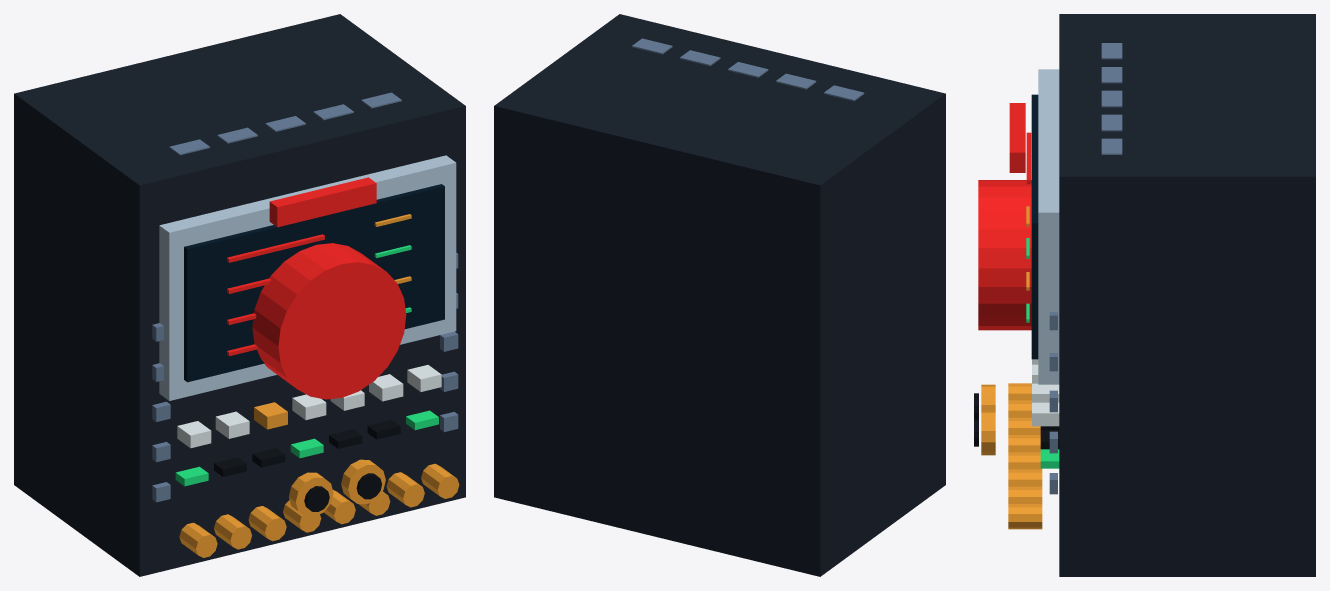
File: 78_L89_RadiationEmergencyIsolationStation.fbx
3 renders of one model, left to right at view 1: azimuth 30°, elevation 25°; view 2: azimuth 150°, elevation 25°; view 3: azimuth 270°, elevation 25°, orthographic. The views are drawn at different scales.
Visible parts, largest first — view 1: L87_RadiationEmergencyIsolationStation_Part_0000, L87_RadiationEmergencyIsolationStation_Part_0009, L87_RadiationEmergencyIsolationStation_Part_0002, L87_RadiationEmergencyIsolationStation_Part_0001, L87_RadiationEmergencyIsolationStation_Part_0004, L87_RadiationEmergencyIsolationStation_Part_0008, L87_RadiationEmergencyIsolationStation_Part_0006, L87_RadiationEmergencyIsolationStation_Part_0007, L87_RadiationEmergencyIsolationStation_Part_0005, L87_RadiationEmergencyIsolationStation_Part_0003, L87_RadiationEmergencyIsolationStation_Part_0012, L87_RadiationEmergencyIsolationStation_Part_0010; view 2: L87_RadiationEmergencyIsolationStation_Part_0000, L87_RadiationEmergencyIsolationStation_Part_0008; view 3: L87_RadiationEmergencyIsolationStation_Part_0000, L87_RadiationEmergencyIsolationStation_Part_0009, L87_RadiationEmergencyIsolationStation_Part_0001, L87_RadiationEmergencyIsolationStation_Part_0004, L87_RadiationEmergencyIsolationStation_Part_0008, L87_RadiationEmergencyIsolationStation_Part_0002, L87_RadiationEmergencyIsolationStation_Part_0006, L87_RadiationEmergencyIsolationStation_Part_0012, L87_RadiationEmergencyIsolationStation_Part_0005.
Part boxes in pixels (<box>): L87_RadiationEmergencyIsolationStation_Part_0000: <box>14,14,465,576</box>; L87_RadiationEmergencyIsolationStation_Part_0009: <box>252,177,406,399</box>; L87_RadiationEmergencyIsolationStation_Part_0002: <box>184,184,444,382</box>; L87_RadiationEmergencyIsolationStation_Part_0001: <box>159,155,456,400</box>; L87_RadiationEmergencyIsolationStation_Part_0004: <box>179,214,459,557</box>; L87_RadiationEmergencyIsolationStation_Part_0008: <box>152,92,458,502</box>; L87_RadiationEmergencyIsolationStation_Part_0006: <box>177,365,441,448</box>; L87_RadiationEmergencyIsolationStation_Part_0007: <box>214,420,400,476</box>; L87_RadiationEmergencyIsolationStation_Part_0005: <box>175,245,438,486</box>; L87_RadiationEmergencyIsolationStation_Part_0003: <box>227,234,324,356</box>; L87_RadiationEmergencyIsolationStation_Part_0012: <box>341,459,385,504</box>; L87_RadiationEmergencyIsolationStation_Part_0010: <box>289,472,333,516</box>; L87_RadiationEmergencyIsolationStation_Part_0000: <box>494,14,945,576</box>; L87_RadiationEmergencyIsolationStation_Part_0008: <box>632,38,864,101</box>; L87_RadiationEmergencyIsolationStation_Part_0000: <box>1059,14,1315,576</box>; L87_RadiationEmergencyIsolationStation_Part_0009: <box>978,103,1031,330</box>; L87_RadiationEmergencyIsolationStation_Part_0001: <box>1038,69,1059,384</box>; L87_RadiationEmergencyIsolationStation_Part_0004: <box>1008,206,1042,529</box>; L87_RadiationEmergencyIsolationStation_Part_0008: <box>1049,43,1122,494</box>; L87_RadiationEmergencyIsolationStation_Part_0002: <box>1031,94,1038,359</box>; L87_RadiationEmergencyIsolationStation_Part_0006: <box>1032,359,1059,426</box>; L87_RadiationEmergencyIsolationStation_Part_0012: <box>981,410,995,455</box>; L87_RadiationEmergencyIsolationStation_Part_0005: <box>1026,238,1059,468</box>.
Bounding box in the file's own units: 112 × 129 × 99.6.
